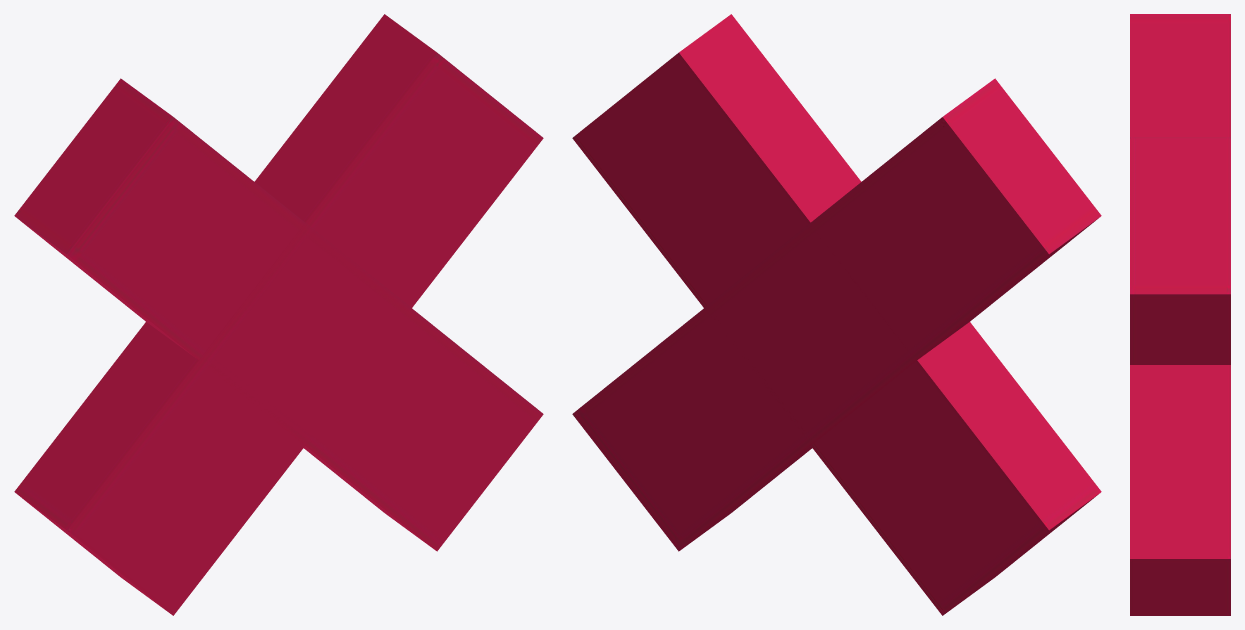
The model's file is close-icon.glb.
3 views of the same model, side by side, from view 1: azimuth 30°, elevation 25°; view 2: azimuth 150°, elevation 25°; view 3: azimuth 270°, elevation 25° (orthographic). The views are drawn at different scales.
Parts seen in each view (by area): view 1: close; view 2: close; view 3: close.
Part boxes in pixels (x1,y1,x2,y2): close: (14,14,543,615); close: (572,14,1101,615); close: (1130,14,1230,615).
Size of the model in its own units: 0.2239 by 0.2239 by 0.0428.
Materials: 1 (1 with a texture image).
